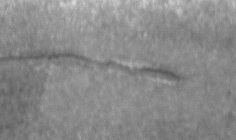HorizontalCrack: (1, 51, 179, 78)
